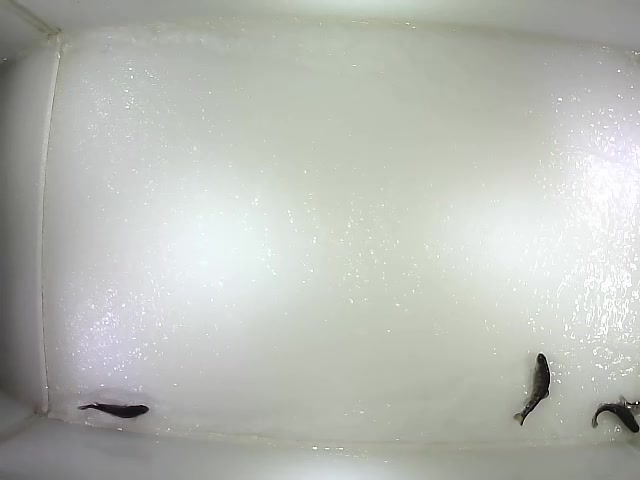fish: (512, 351, 551, 427), (591, 404, 640, 435), (75, 401, 150, 420)
